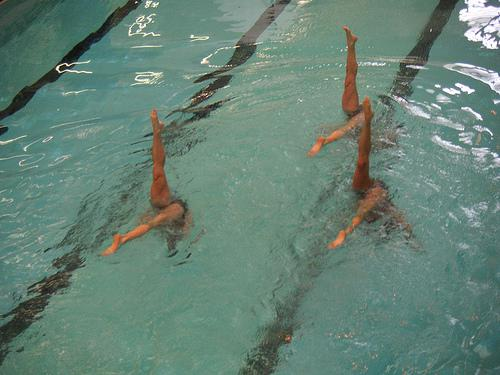human: (326, 95, 416, 250), (100, 108, 192, 258), (304, 21, 375, 155)
